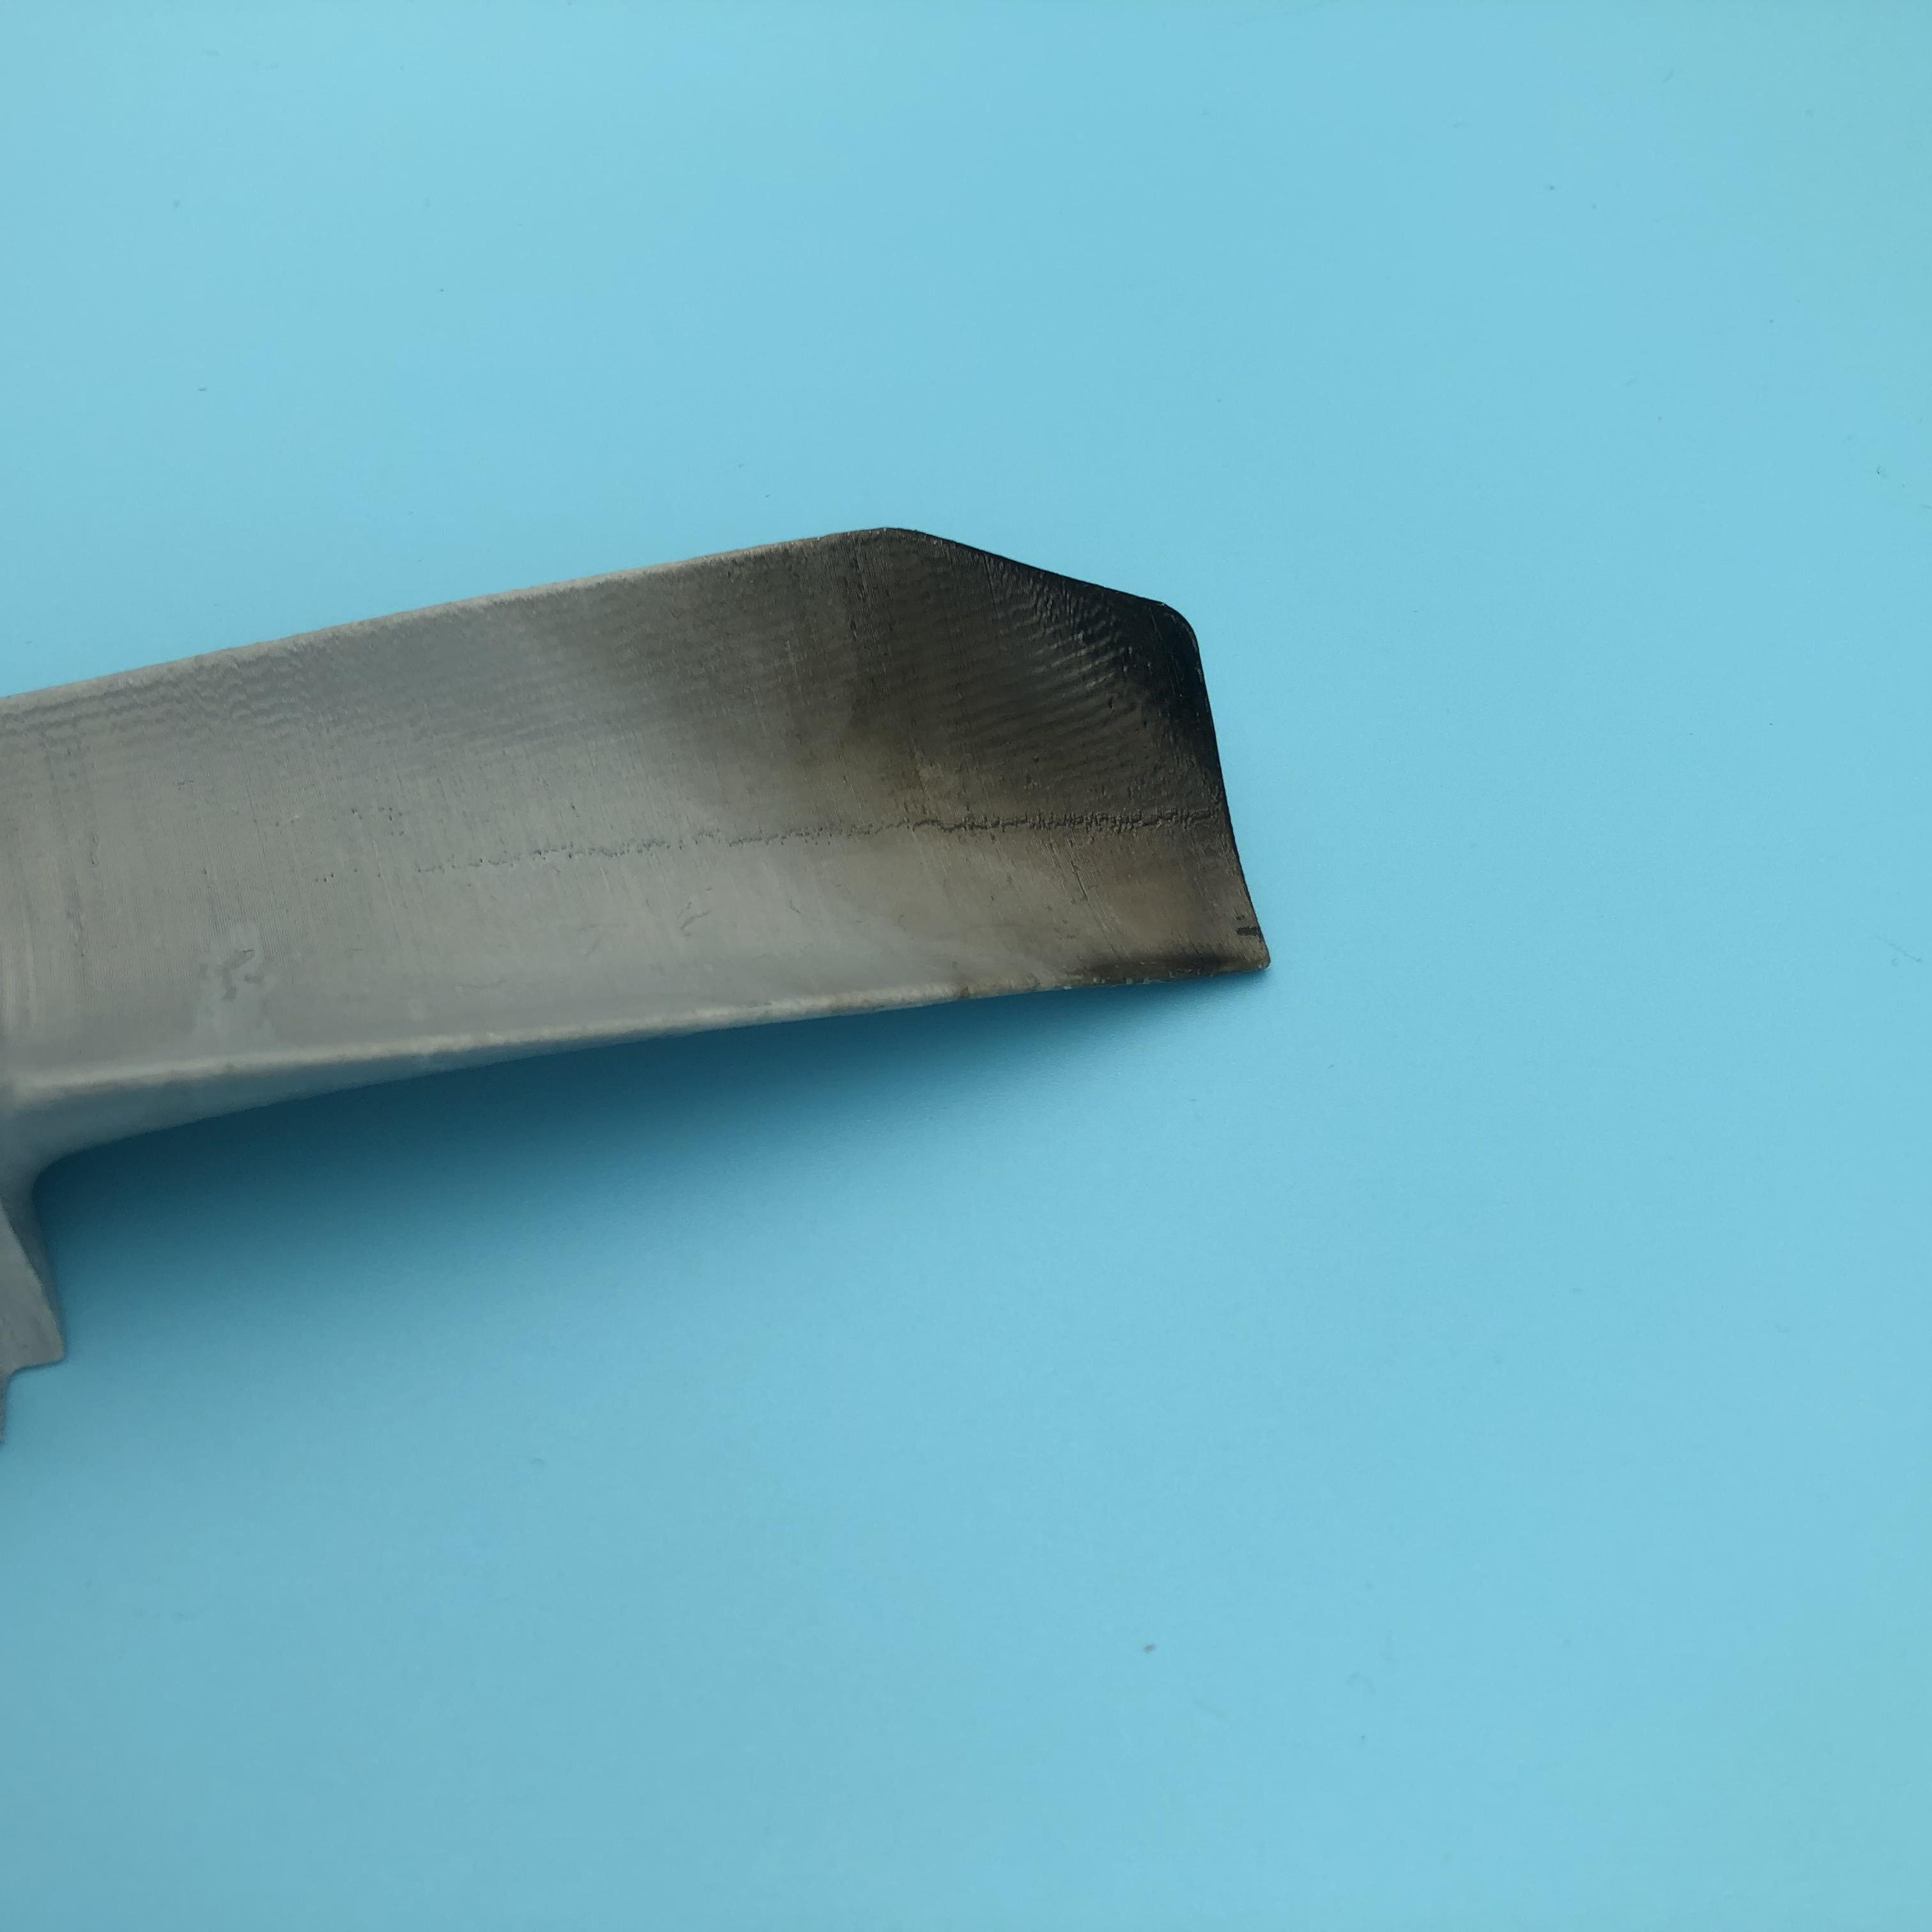ablation: (736, 564, 1231, 966)
